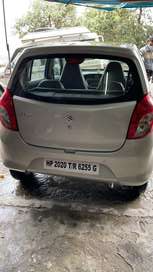HP2020TR6255G: (44, 158, 98, 175)
